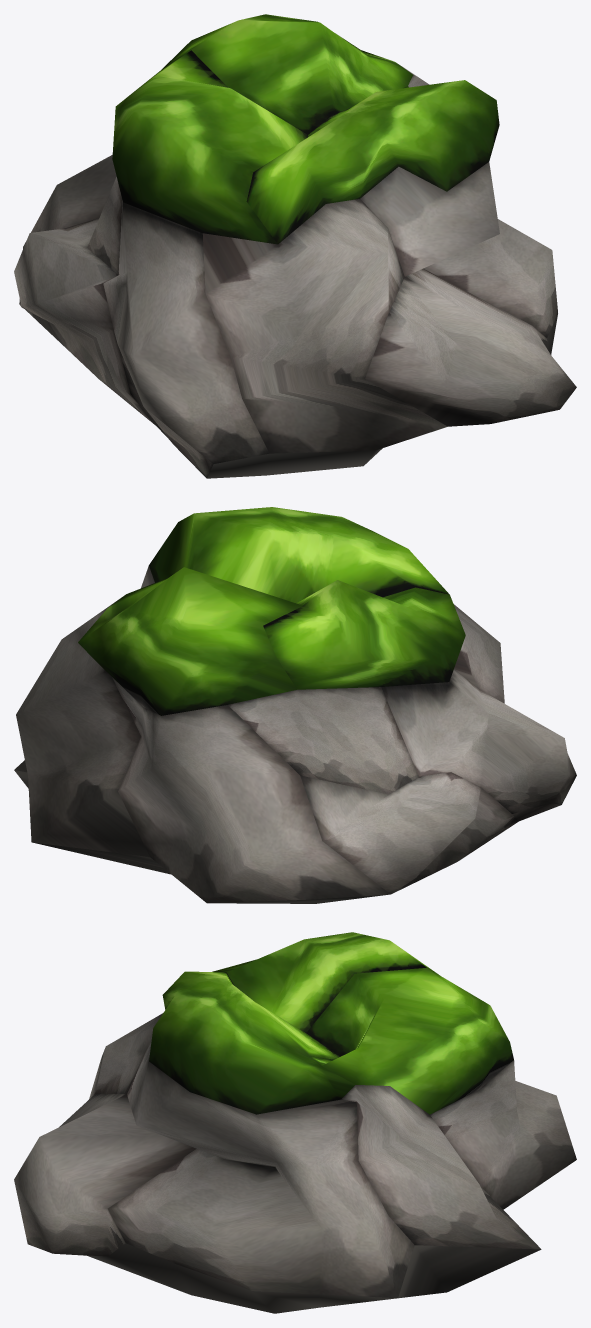
File: rock_mossy_4m.DAE
3 views of the same model, one above another, from view 1: azimuth 30°, elevation 25°; view 2: azimuth 150°, elevation 25°; view 3: azimuth 270°, elevation 25° (orthographic). The views are drawn at different scales.
Parts seen in each view (by area): view 1: Box01; view 2: Box01; view 3: Box01.
Boxes of the visible parts, x1,y1,x2,y2 form: Box01: (14, 14, 576, 478); Box01: (14, 507, 576, 903); Box01: (14, 932, 576, 1313).
Size of the model in its own units: 6.3 by 4.21 by 7.32.
